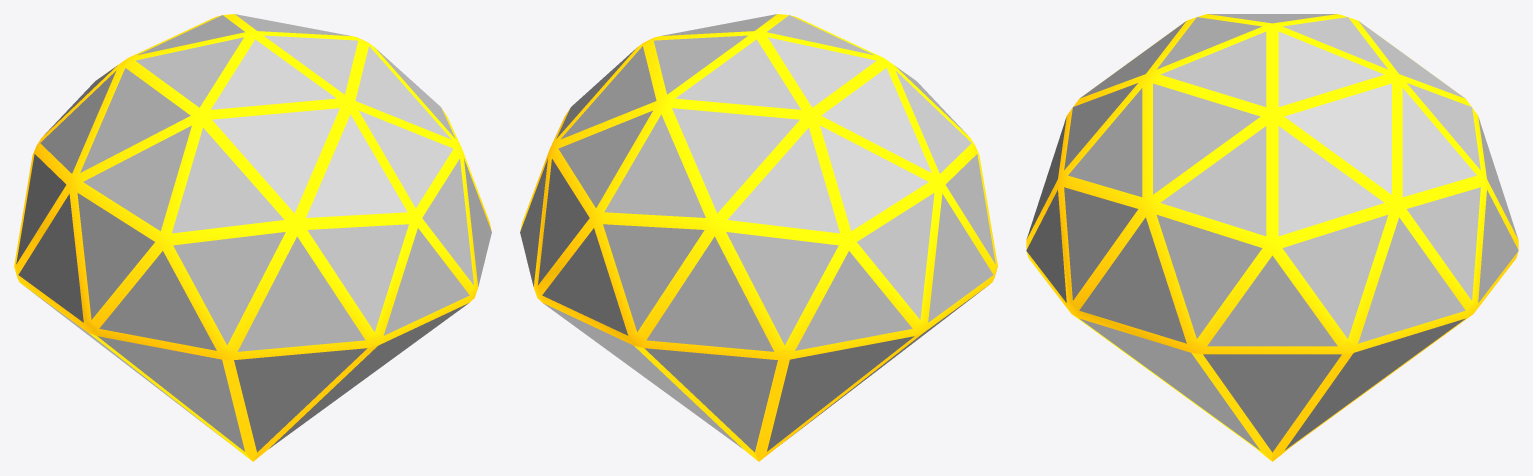
The model's file is Gems_05.fbx.
3 views of the same model, side by side, from view 1: azimuth 30°, elevation 25°; view 2: azimuth 150°, elevation 25°; view 3: azimuth 270°, elevation 25° (orthographic).
Parts seen in each view (by area): view 1: Gem01; view 2: Gem01; view 3: Gem01.
Part boxes in pixels (x1=…): Gem01: x1=14, y1=14, x2=491, y2=461; Gem01: x1=520, y1=14, x2=997, y2=461; Gem01: x1=1026, y1=14, x2=1518, y2=461.
Size of the model in its own units: 189 by 191 by 196.
